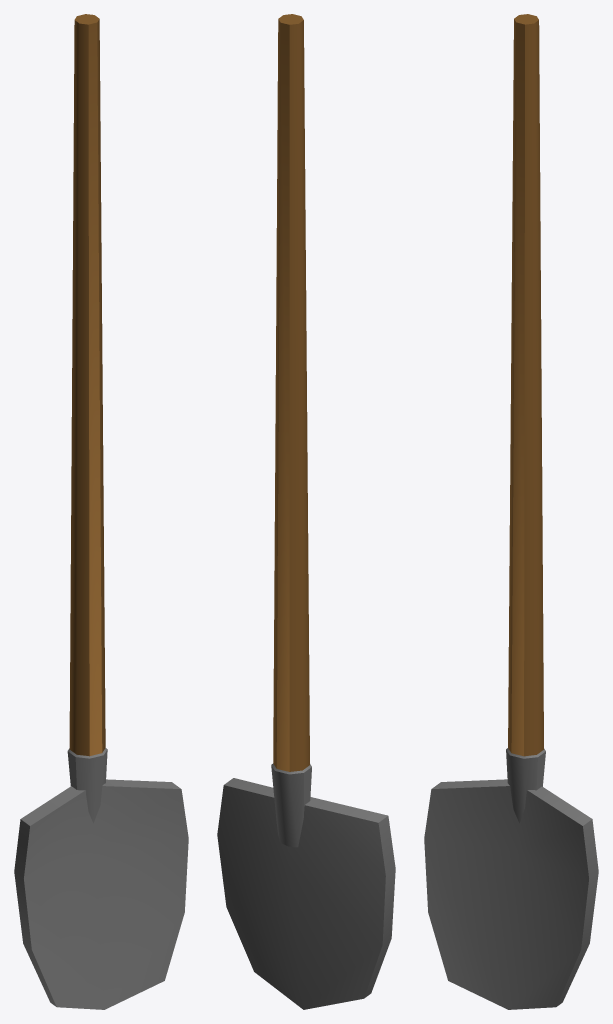
The model's file is Shovel_1.fbx.
3 renders of one model, left to right at view 1: azimuth 30°, elevation 25°; view 2: azimuth 150°, elevation 25°; view 3: azimuth 330°, elevation 25°, orthographic. The views are drawn at different scales.
Parts seen in each view (by area): view 1: Shovel_1; view 2: Shovel_1; view 3: Shovel_1.
Boxes of the visible parts, <box> form: Shovel_1: <box>14,14,188,1009</box>; Shovel_1: <box>217,14,395,1009</box>; Shovel_1: <box>424,14,598,1009</box>.
Size of the model in its own units: 0.1103 by 0.6245 by 0.0378.
